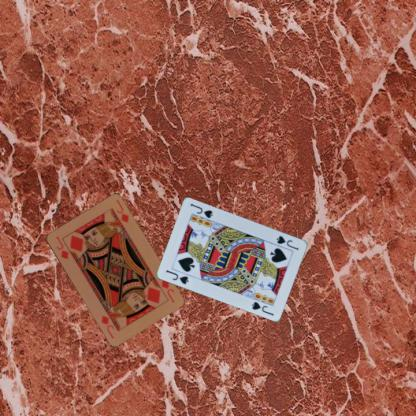Jd: (158, 277, 176, 304), (53, 233, 69, 260)
Js: (274, 233, 300, 251), (164, 267, 190, 285)
